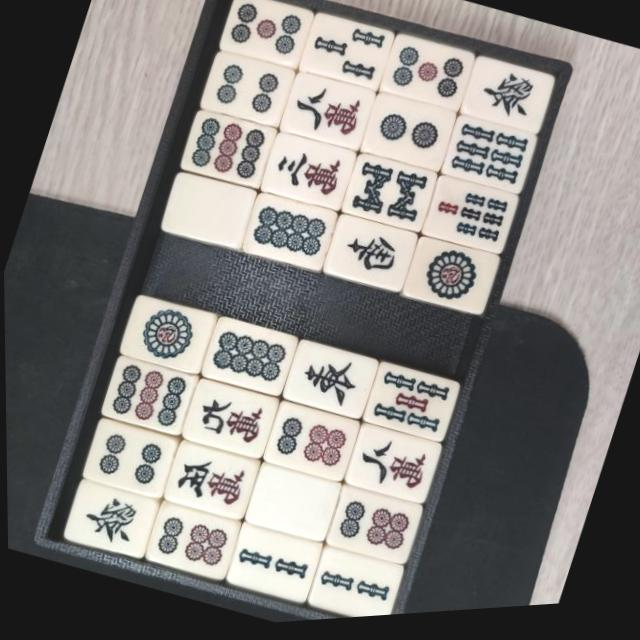hdg: (461, 62, 550, 138), (66, 482, 152, 559)
hdw: (164, 175, 250, 250), (249, 471, 331, 542)
hwe: (286, 347, 372, 424)
hws: (326, 221, 408, 292)
sb2: (225, 528, 316, 607), (308, 554, 396, 624)
sb3: (302, 16, 390, 93)
sb5: (365, 367, 453, 447)
sb6: (441, 120, 532, 199)
sb7: (423, 181, 512, 258)
sb8: (342, 158, 431, 236)
sc3: (263, 138, 351, 212)
sc5: (164, 447, 252, 522)
sc8: (281, 74, 370, 154), (347, 430, 436, 508)
sc9: (183, 384, 270, 460)
sd1: (404, 241, 492, 321), (123, 296, 210, 376)
sd2: (364, 99, 451, 174)
sd4: (84, 422, 170, 497), (201, 54, 288, 128)
sd5: (383, 39, 469, 113), (223, 0, 306, 70)
sd6: (326, 492, 416, 568), (146, 506, 233, 580), (266, 408, 351, 483)
sd8: (202, 321, 290, 398), (243, 197, 331, 271)
sd9: (101, 356, 190, 439), (182, 111, 270, 191)
